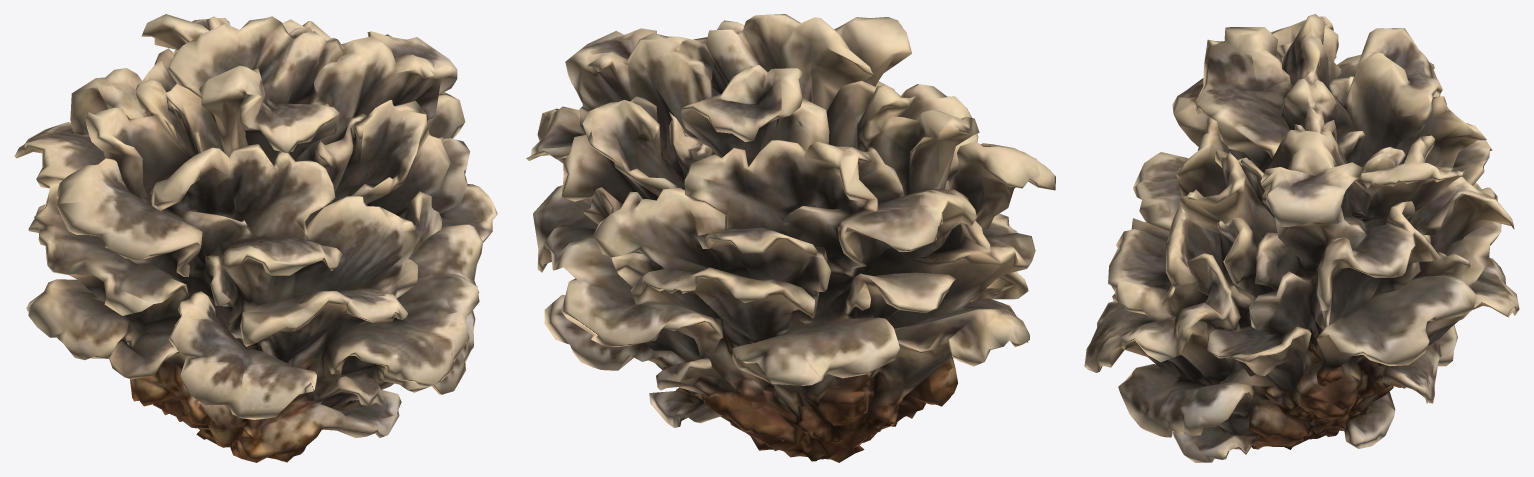
File: ganba.glb
The picture shows the model from 3 angles, left to right: view 1: azimuth 30°, elevation 25°; view 2: azimuth 150°, elevation 25°; view 3: azimuth 270°, elevation 25°; orthographic projection. The views are drawn at different scales.
Parts seen in each view (by area): view 1: tripo_node_02068f77-180e-4fa2-8df3-451dc32d5ad1; view 2: tripo_node_02068f77-180e-4fa2-8df3-451dc32d5ad1; view 3: tripo_node_02068f77-180e-4fa2-8df3-451dc32d5ad1.
Boxes of the visible parts, bbox=[...] form: tripo_node_02068f77-180e-4fa2-8df3-451dc32d5ad1: bbox=[14, 14, 497, 462]; tripo_node_02068f77-180e-4fa2-8df3-451dc32d5ad1: bbox=[526, 14, 1055, 462]; tripo_node_02068f77-180e-4fa2-8df3-451dc32d5ad1: bbox=[1084, 14, 1519, 462].
Bounding box in the file's own units: 0.9776 × 0.8805 × 0.8398.
Materials: 1 (1 with a texture image).
